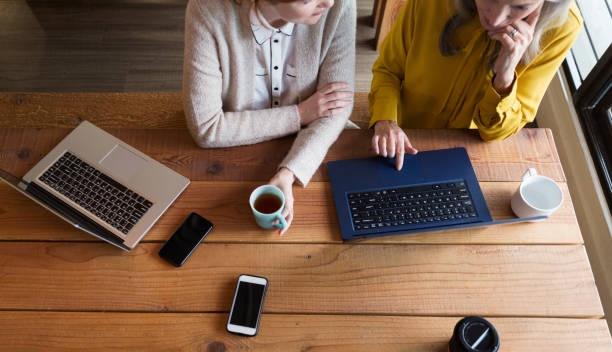keyboard: (37, 151, 152, 235), (344, 180, 479, 233)
laptop: (1, 119, 190, 253), (327, 147, 544, 244)
phone: (155, 211, 214, 269), (225, 273, 269, 338)
